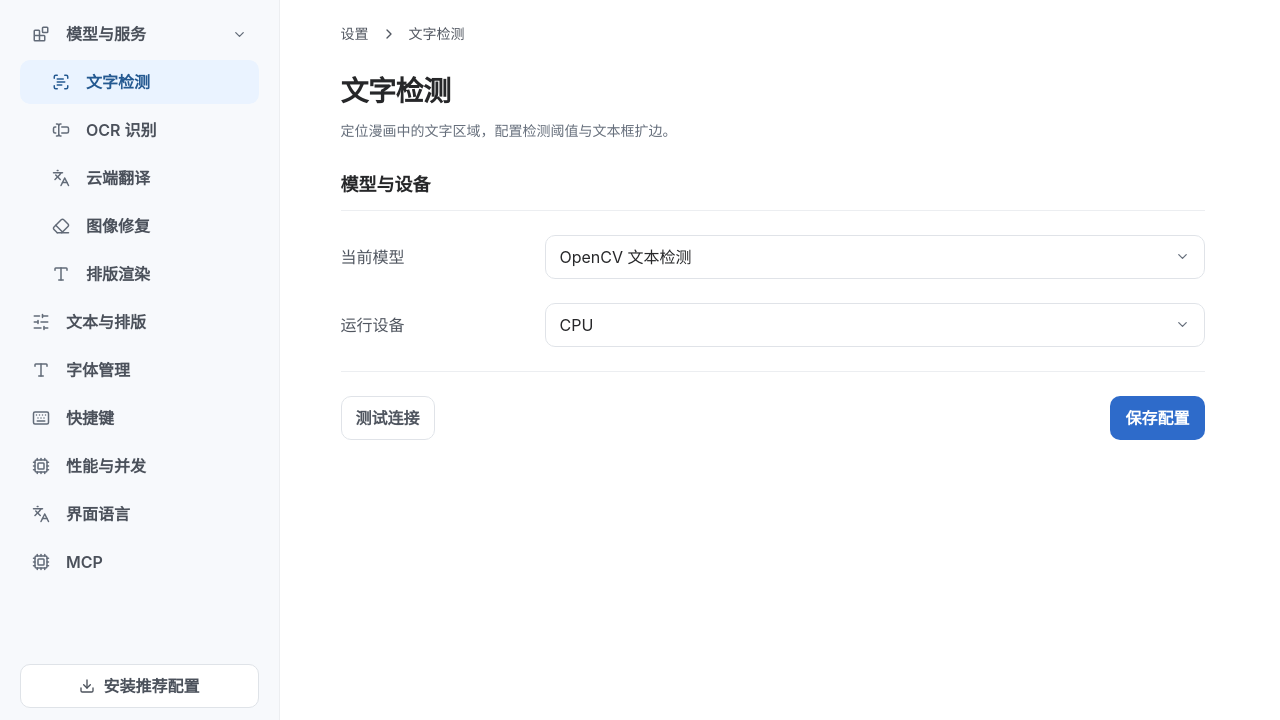
service connection tests › tests detection using current settings without saving
Click the button with aria-label "编辑文字检测配置": (140, 82) x1=20 y1=60 x2=259 y2=104
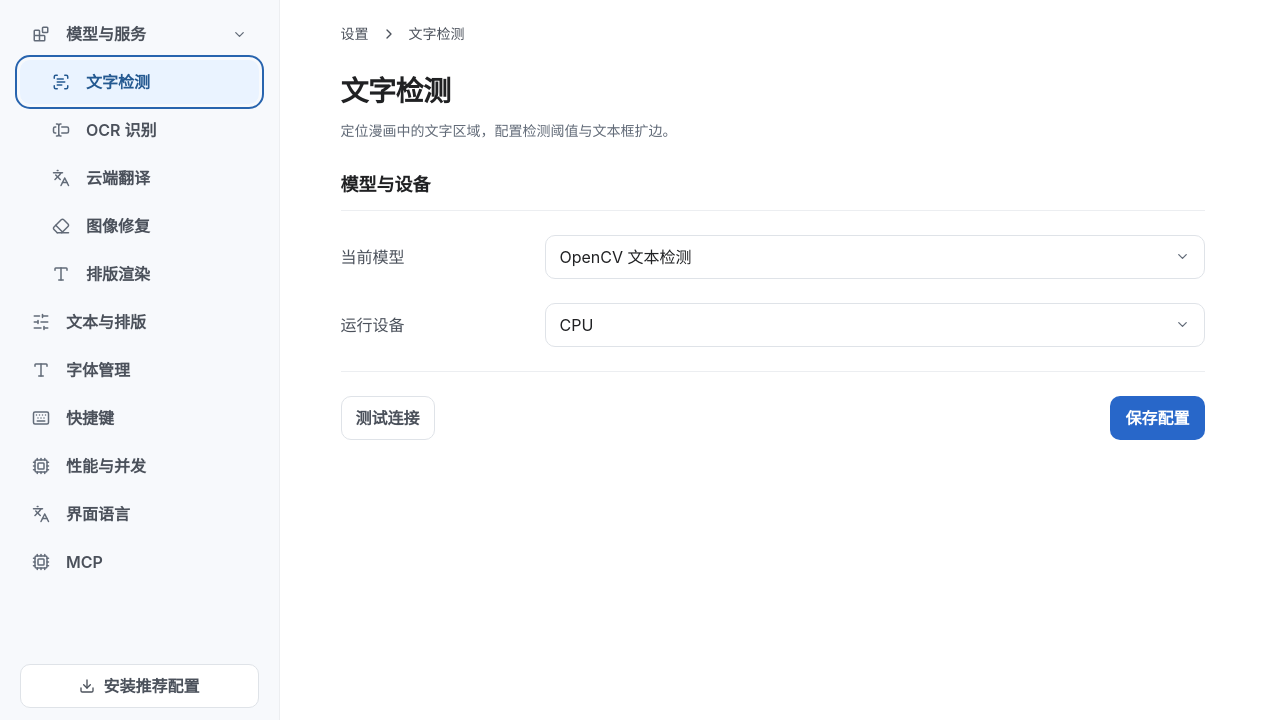
Click the button "测试连接": (388, 418) x1=340 y1=396 x2=434 y2=440
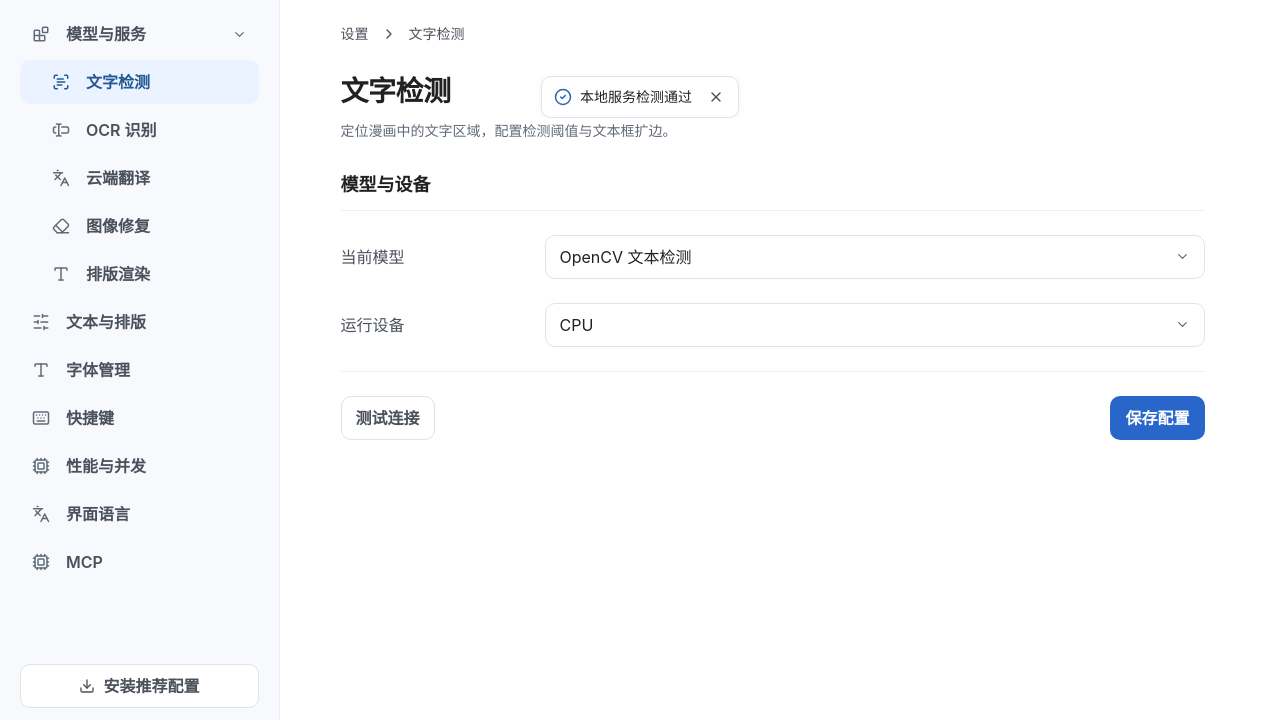
Expected: the text "本地服务检测通过" is shown, x1=580 y1=83 x2=692 y2=111
Expected: the message named "测试连接" reads "本地服务检测通过", x1=580 y1=88 x2=692 y2=105
Click the button named "关闭提示": (716, 97) x1=700 y1=81 x2=732 y2=113
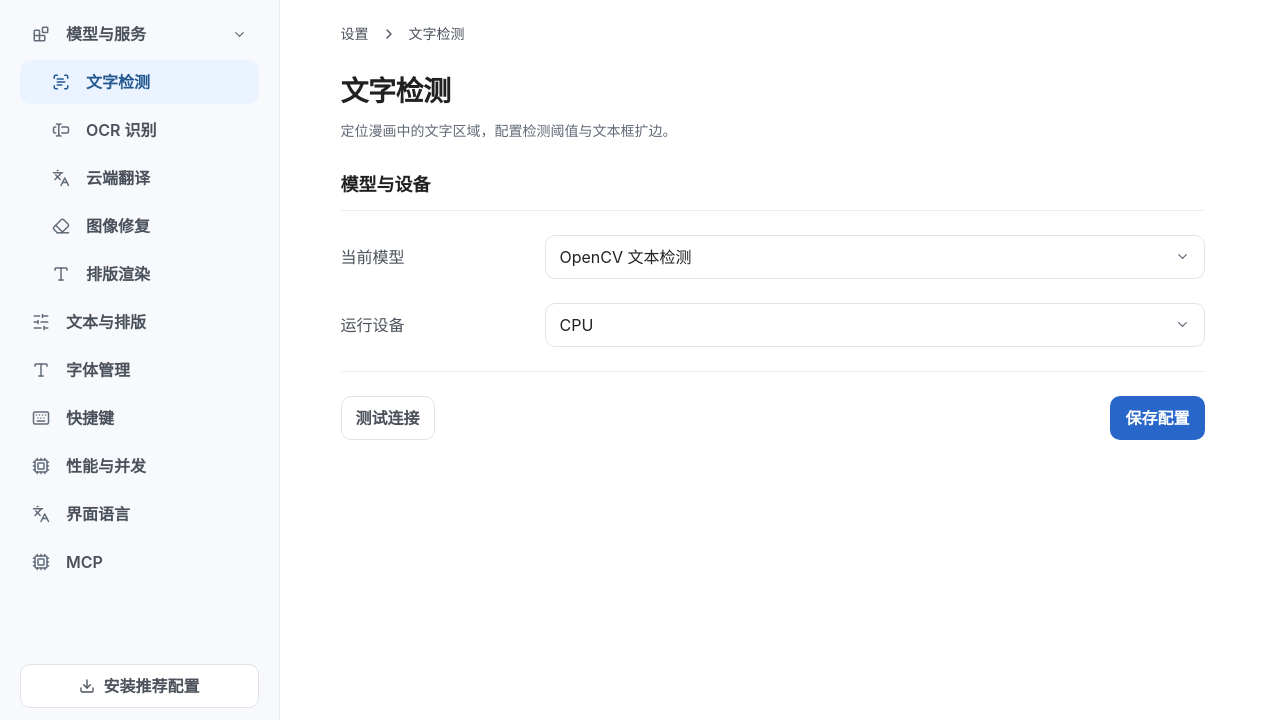
Expected: the text "本地服务检测通过" is gone
